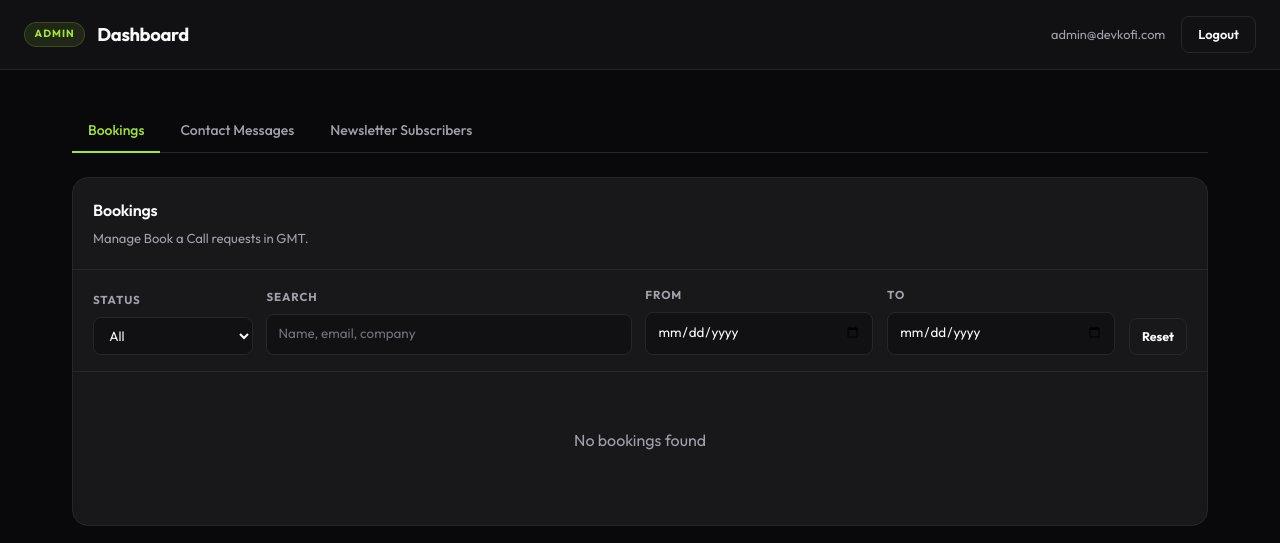
Test: AdminDashboard newsletter export › shows error state when export fails
The width and height of the screenshot is (1280, 543).
Click the tab "Newsletter Subscribers": (401, 132) [314,110,488,153]
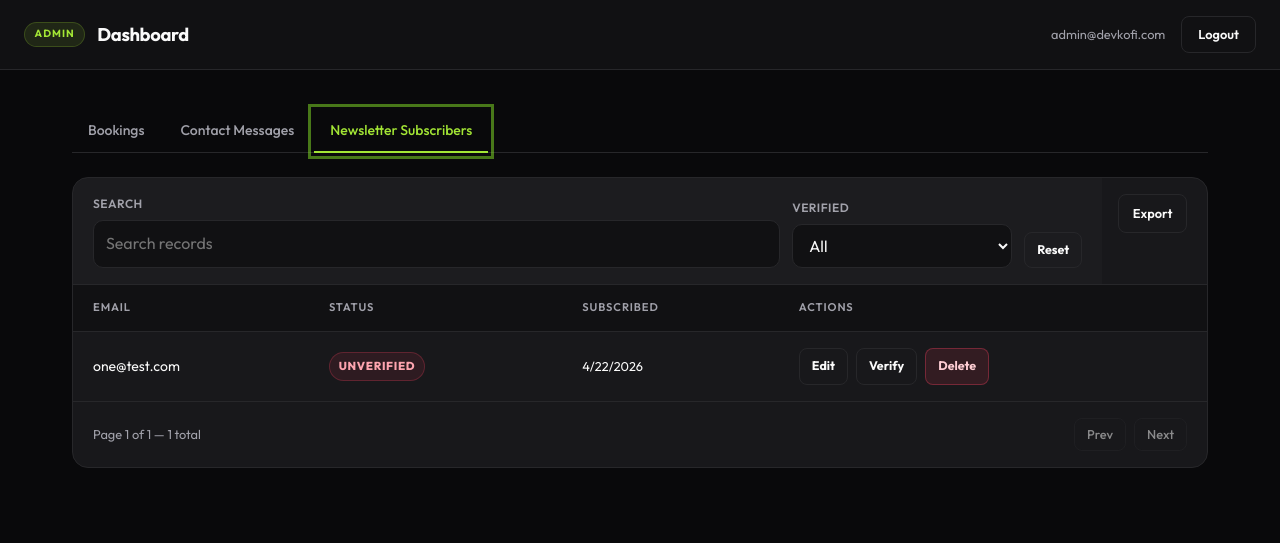
Click the button "Export": (1153, 214) [1118,194,1187,233]
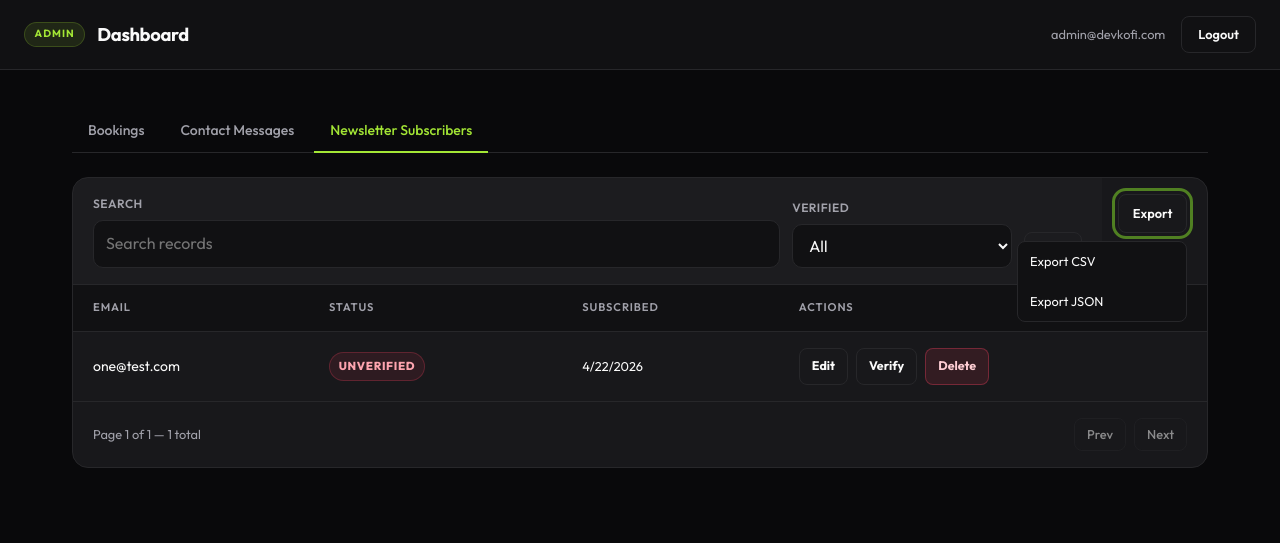
Click the menu item "Export CSV": (1102, 262) [1018,242,1186,282]
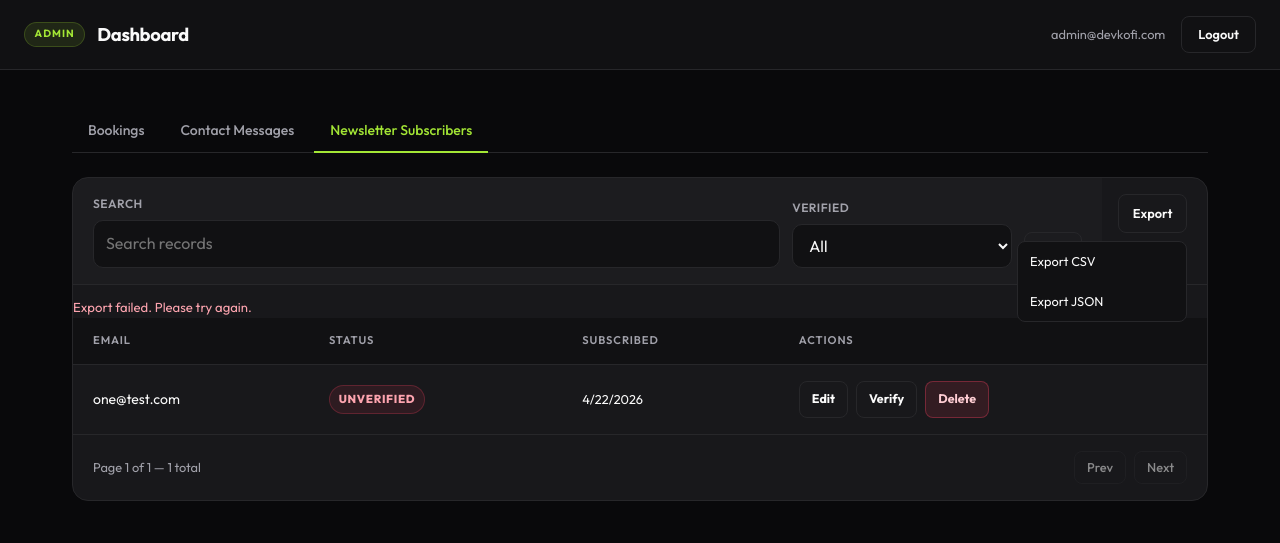
Result: the text "Export failed. Please try again." is shown at [73,299,252,315]
